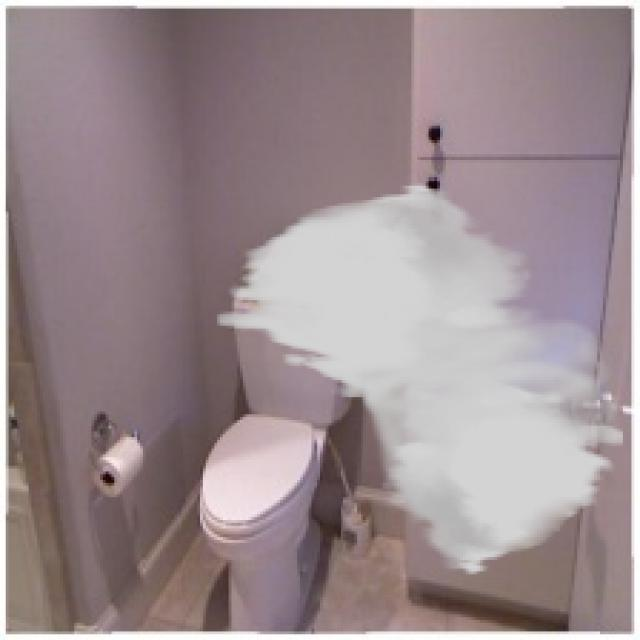smoke: (217, 183, 626, 577)
